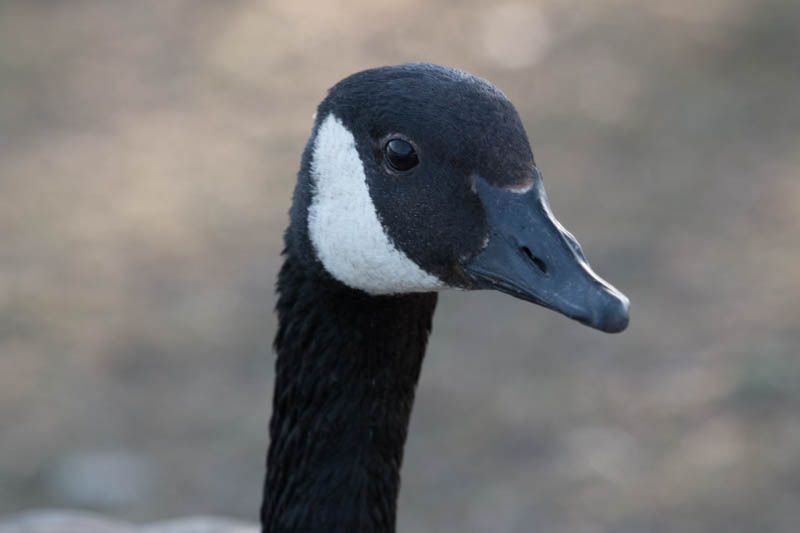goose-head: (281, 61, 634, 333)
